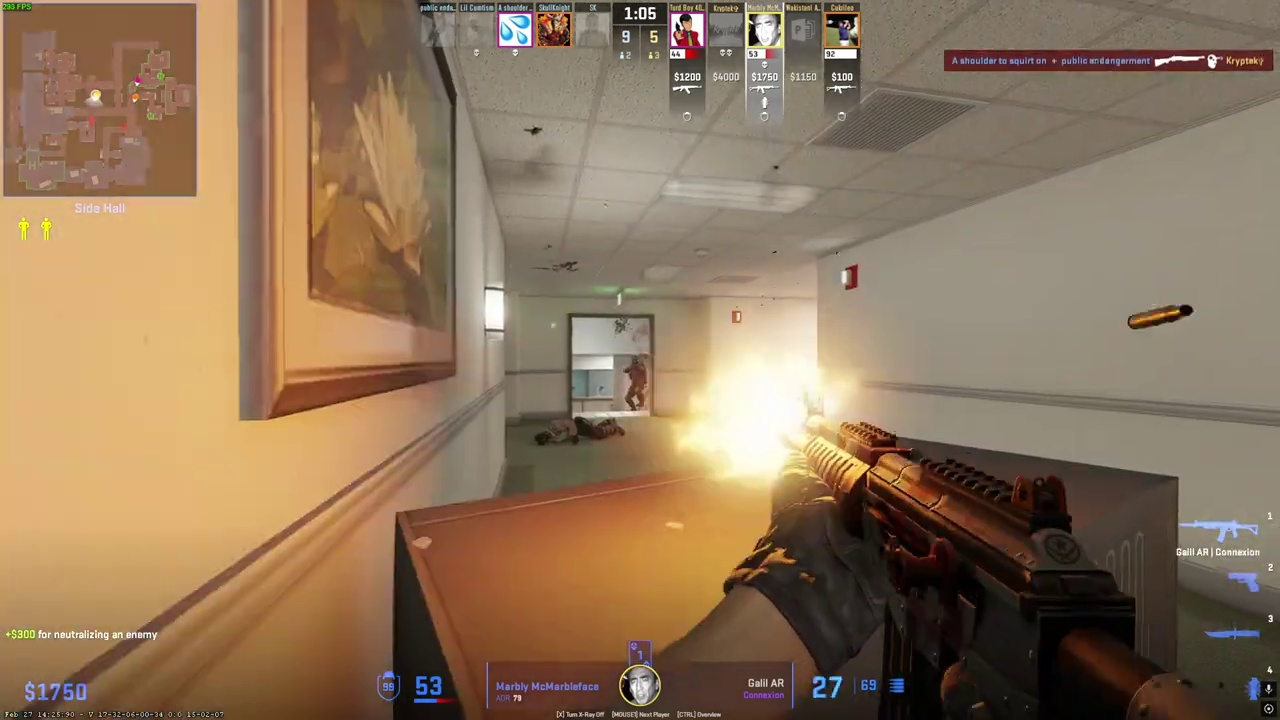CT: (625, 357, 646, 411)
